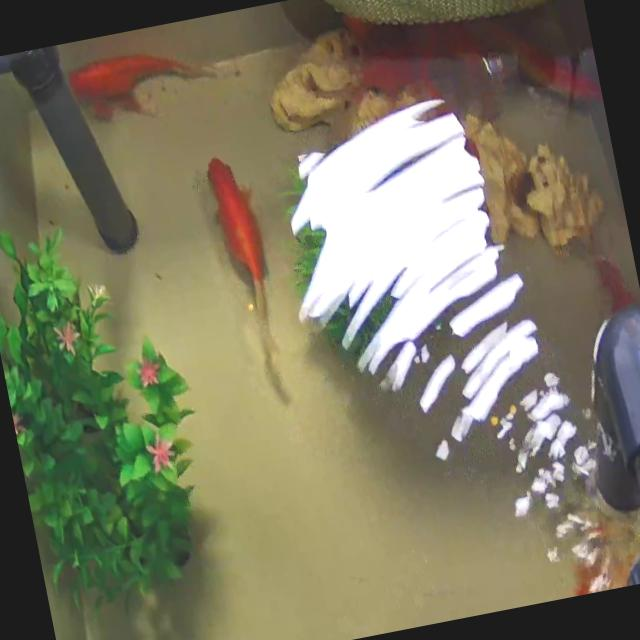fish: (192, 137, 298, 372), (476, 16, 600, 122), (78, 38, 215, 124)
